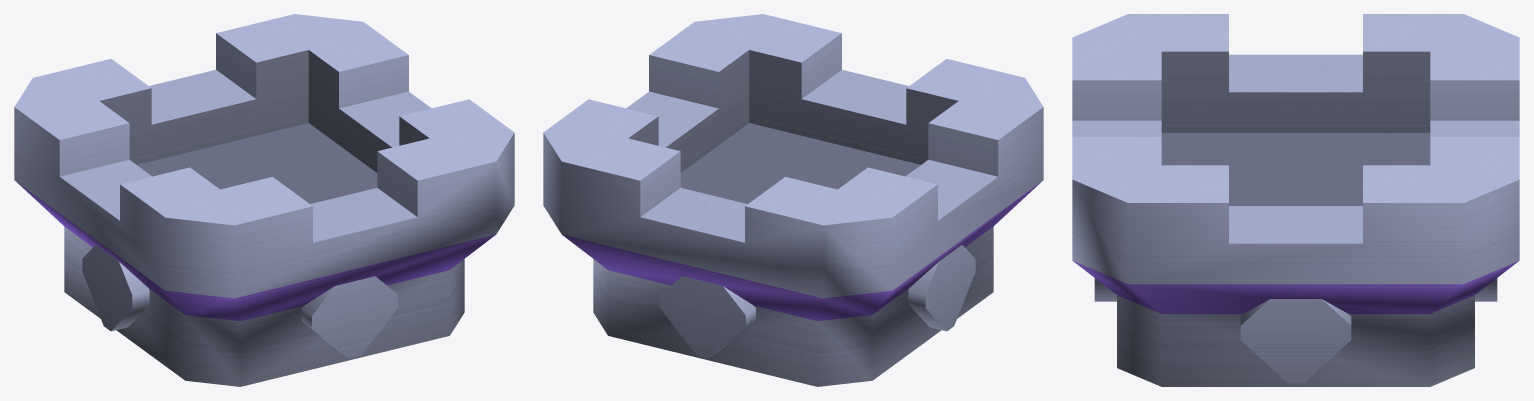
Rendered from tower-square-top-c.glb.
3 renders of one model, left to right at view 1: azimuth 30°, elevation 25°; view 2: azimuth 150°, elevation 25°; view 3: azimuth 270°, elevation 25°, orthographic. The views are drawn at different scales.
Parts seen in each view (by area): view 1: tower-square-top-c; view 2: tower-square-top-c; view 3: tower-square-top-c.
Boxes of the visible parts, left/top/right/bottom form: tower-square-top-c: left=14, top=14, right=514, bottom=386; tower-square-top-c: left=543, top=14, right=1043, bottom=386; tower-square-top-c: left=1072, top=14, right=1519, bottom=386.
Size of the model in its own units: 1 by 0.5 by 1.
Materials: 1 (1 with a texture image).
